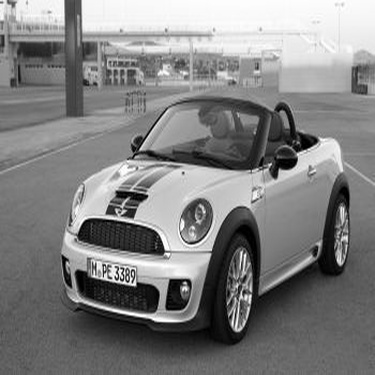car: (68, 85, 354, 343)
